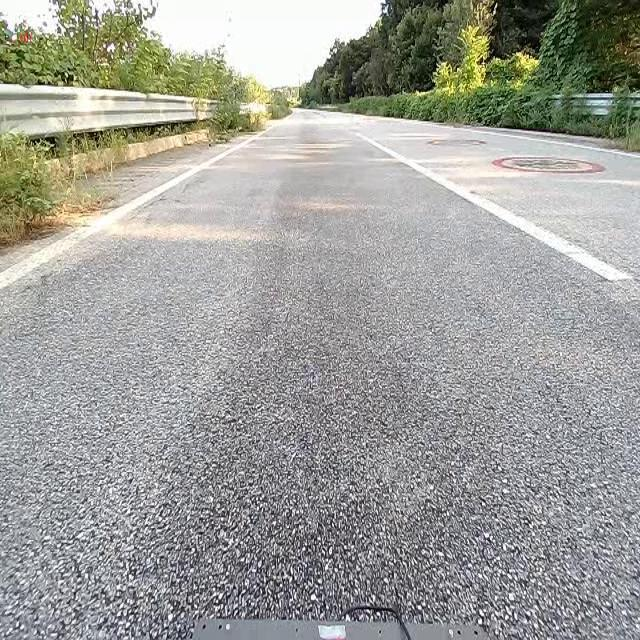Lane: (362, 123, 640, 293), (0, 122, 263, 290), (361, 133, 633, 288), (0, 137, 252, 290)
